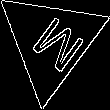M_SW: (18, 8, 83, 77)
